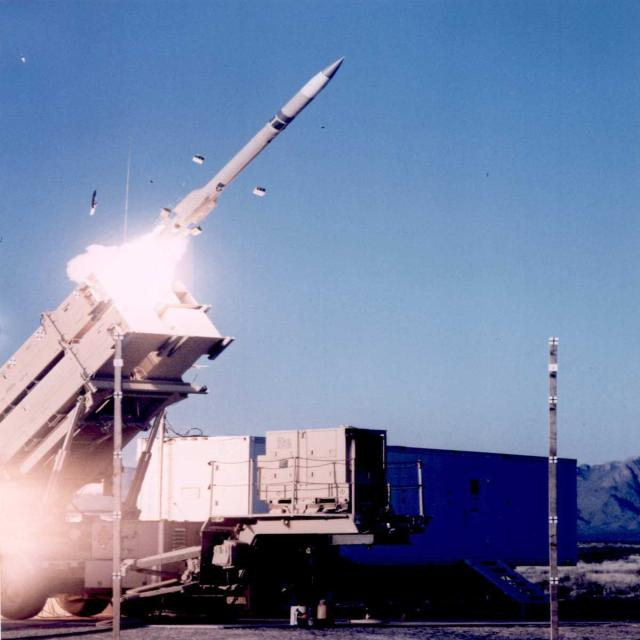missile: (158, 55, 350, 245)
